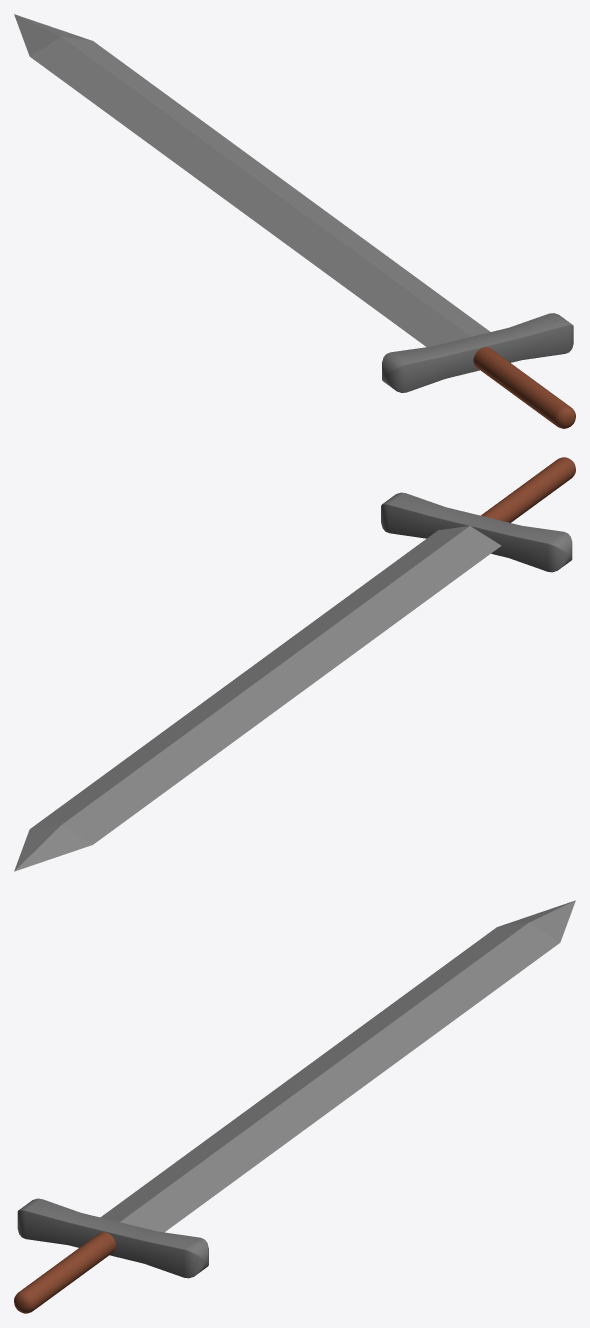
File: Sword.fbx
The picture shows the model from 3 angles, top to bottom: view 1: azimuth 30°, elevation 25°; view 2: azimuth 150°, elevation 25°; view 3: azimuth 330°, elevation 25°; orthographic projection.
Parts seen in each view (by area): view 1: Cylinder.001; view 2: Cylinder.001; view 3: Cylinder.001.
Part boxes in pixels (<box>): Cylinder.001: <box>14,14,575,428</box>; Cylinder.001: <box>14,457,575,871</box>; Cylinder.001: <box>14,900,575,1313</box>.
Size of the model in its own units: 84.69 by 12.67 by 439.
